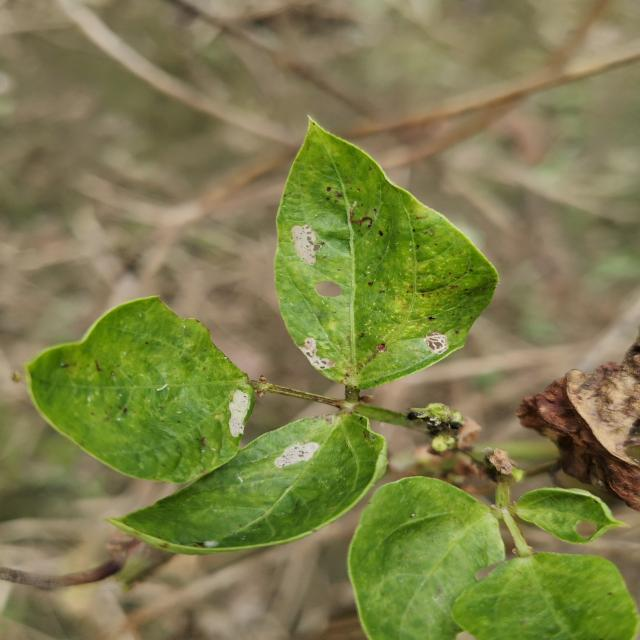leaf-healthy: (275, 120, 498, 391), (26, 297, 256, 483), (43, 297, 254, 482)
sitaw-aphid-high: (349, 477, 505, 640)
